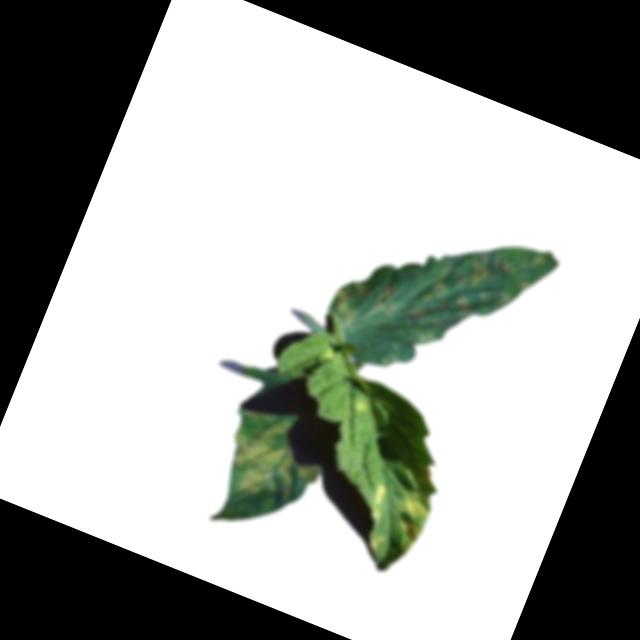Leaf_Mold: (212, 405, 334, 520), (377, 489, 434, 556), (321, 279, 367, 329), (418, 261, 455, 309), (459, 245, 495, 292), (364, 279, 402, 323), (363, 478, 392, 520), (451, 292, 474, 317), (350, 396, 372, 420)
